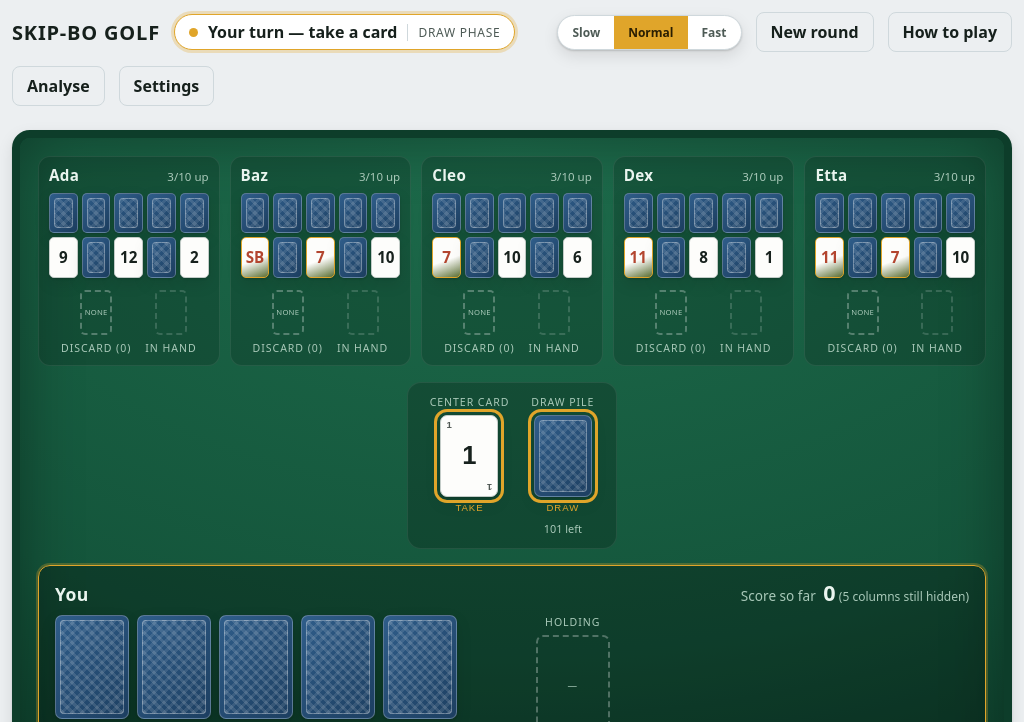
Test case: undo › is no longer offered once the turn has been committed by discarding
Click the button with aria-label "Draw the center card" at x=470, y=456, box [440,415,498,497]
(page scrolled)
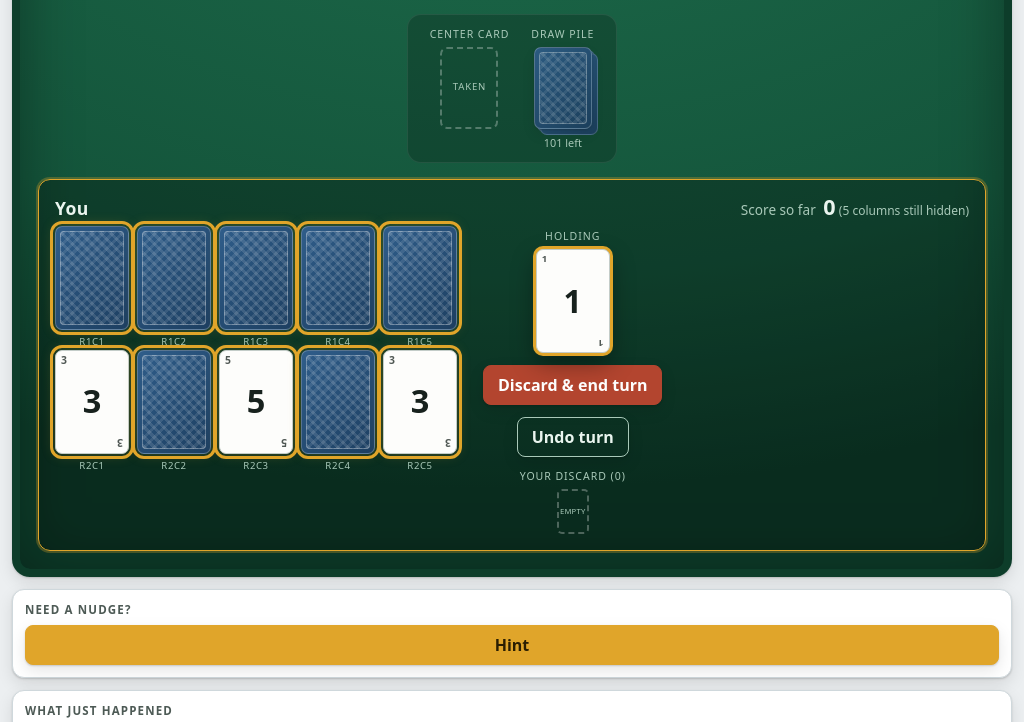
expect the button "Undo turn" is enabled: met, box [517,417,629,457]
Click the button "Discard & end turn" at x=573, y=385, box [483,365,662,405]
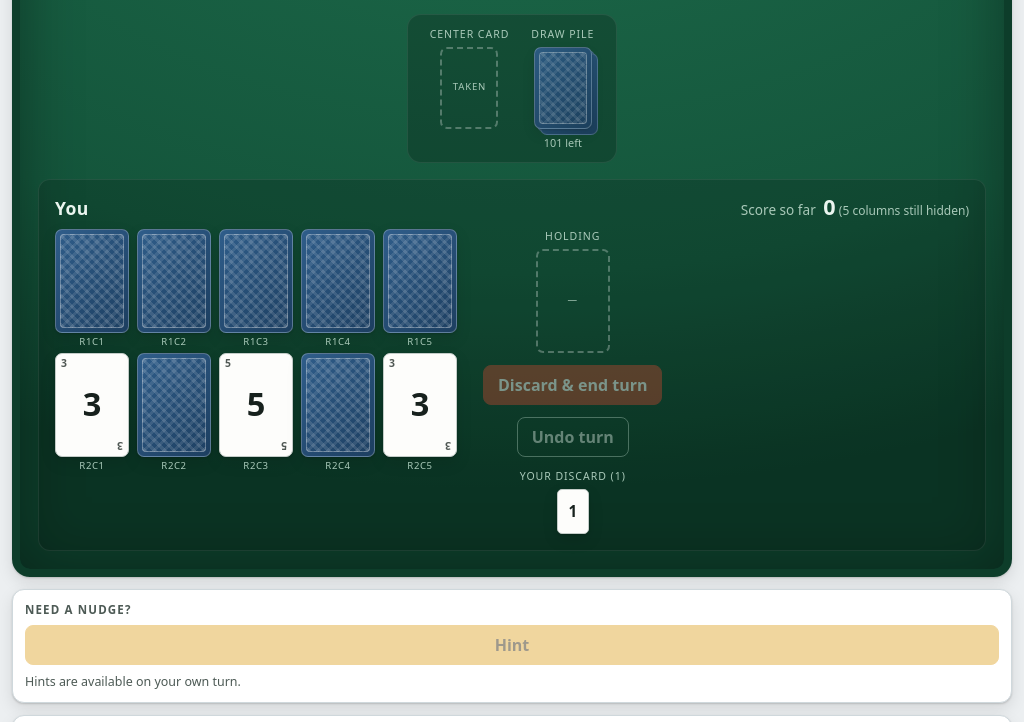
expect the button "Undo turn" is disabled: met, box [517,417,629,457]
